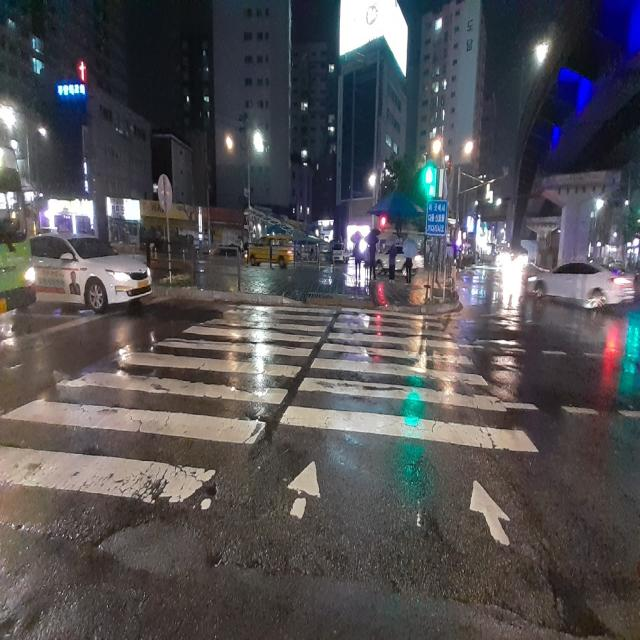초록불: (425, 164, 436, 197)
횡단보도: (0, 304, 540, 548)
